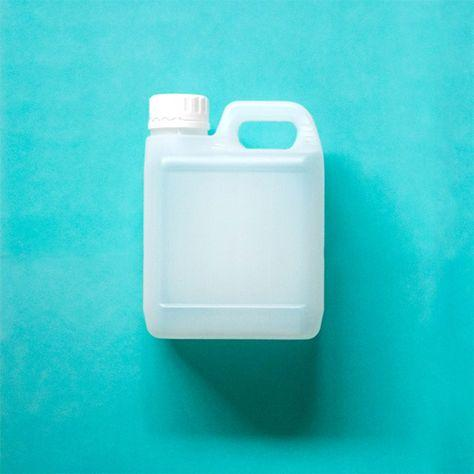HDPE: (0, 0, 474, 440)
